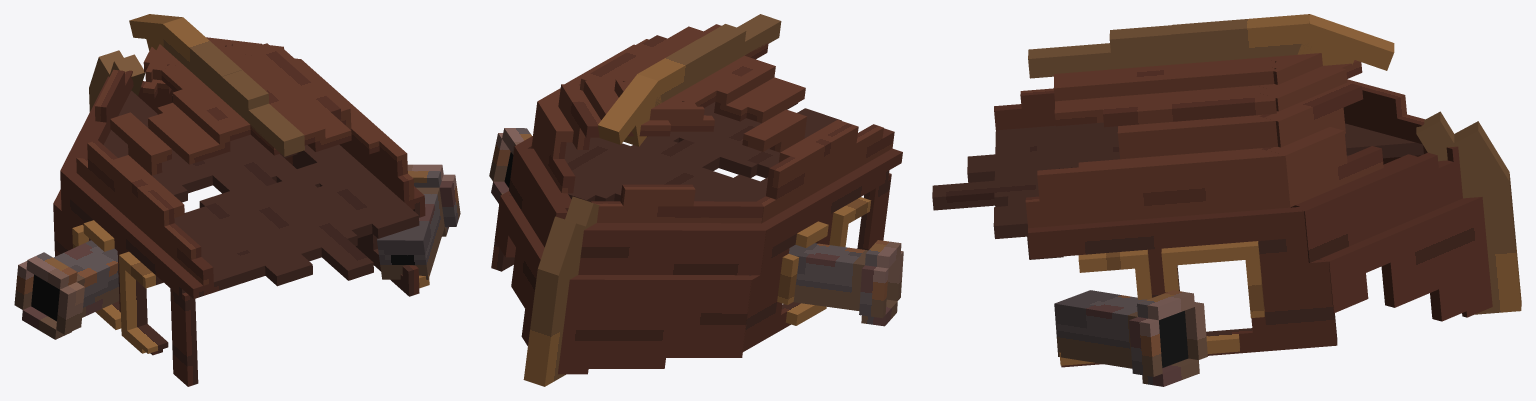
File: upsideHull_hullOnly.gltf
3 views of the same model, side by side, from view 1: azimuth 30°, elevation 25°; view 2: azimuth 150°, elevation 25°; view 3: azimuth 270°, elevation 25° (orthographic). The views are drawn at different scales.
Visible parts, largest first — view 1: xcq-Local, Pao2-Local, Pao4-Local, ship_bow-Local, MO-Local, k4-Local, k2-Local, k3-Local; view 2: ship_bow-Local, xcq-Local, Pao2-Local, k1-Local, k3-Local, k4-Local, k2-Local, MO-Local, Pao4-Local; view 3: xcq-Local, ship_bow-Local, Pao4-Local, MO-Local, k4-Local, k2-Local, k1-Local, k3-Local.
Boxes of the visible parts, <box> form: xcq-Local: <box>53,43,429,386</box>; Pao2-Local: <box>14,240,119,339</box>; Pao4-Local: <box>377,164,460,279</box>; ship_bow-Local: <box>53,37,300,256</box>; MO-Local: <box>210,67,304,156</box>; k4-Local: <box>163,17,241,99</box>; k2-Local: <box>89,50,145,95</box>; k3-Local: <box>129,14,182,50</box>; ship_bow-Local: <box>495,79,765,374</box>; xcq-Local: <box>491,24,902,352</box>; Pao2-Local: <box>789,240,903,326</box>; k1-Local: <box>523,264,579,386</box>; k3-Local: <box>598,74,661,146</box>; k4-Local: <box>638,39,718,106</box>; k2-Local: <box>538,196,599,275</box>; MO-Local: <box>699,14,781,71</box>; Pao4-Local: <box>489,128,531,203</box>; xcq-Local: <box>932,57,1423,367</box>; ship_bow-Local: <box>1258,53,1492,321</box>; Pao4-Local: <box>1054,290,1207,386</box>; MO-Local: <box>1028,25,1201,78</box>; k4-Local: <box>1171,14,1310,64</box>; k2-Local: <box>1416,111,1509,198</box>; k1-Local: <box>1475,172,1521,314</box>; k3-Local: <box>1297,14,1394,70</box>.
Bounding box in the file's own units: 80.8 × 47.36 × 85.06.
Materials: 9 (9 with a texture image).
